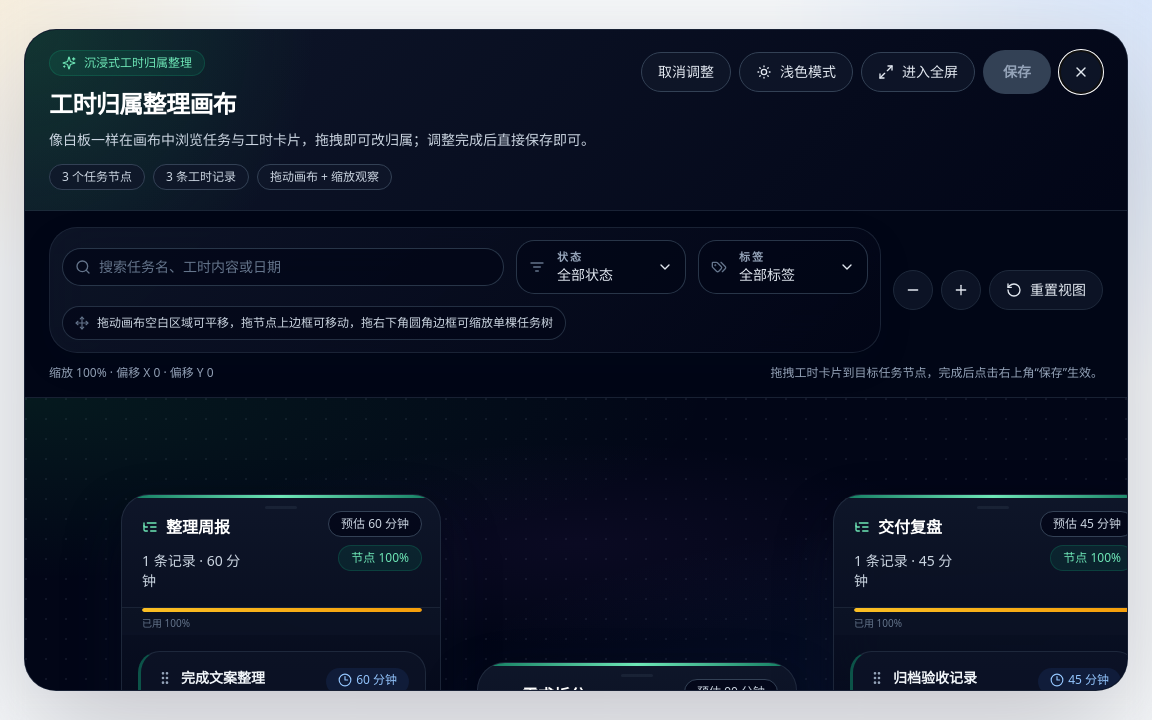
WorkLogTimeCanvasDialog › 支持按任务状态和标签多选筛选画布节点
Expected: the element named "工时画布节点 整理周报" is shown, x1=121 y1=494 x2=441 y2=690
Click the button with aria-label "按任务状态筛选".
click(601, 267)  # box x1=516 y1=240 x2=686 y2=294
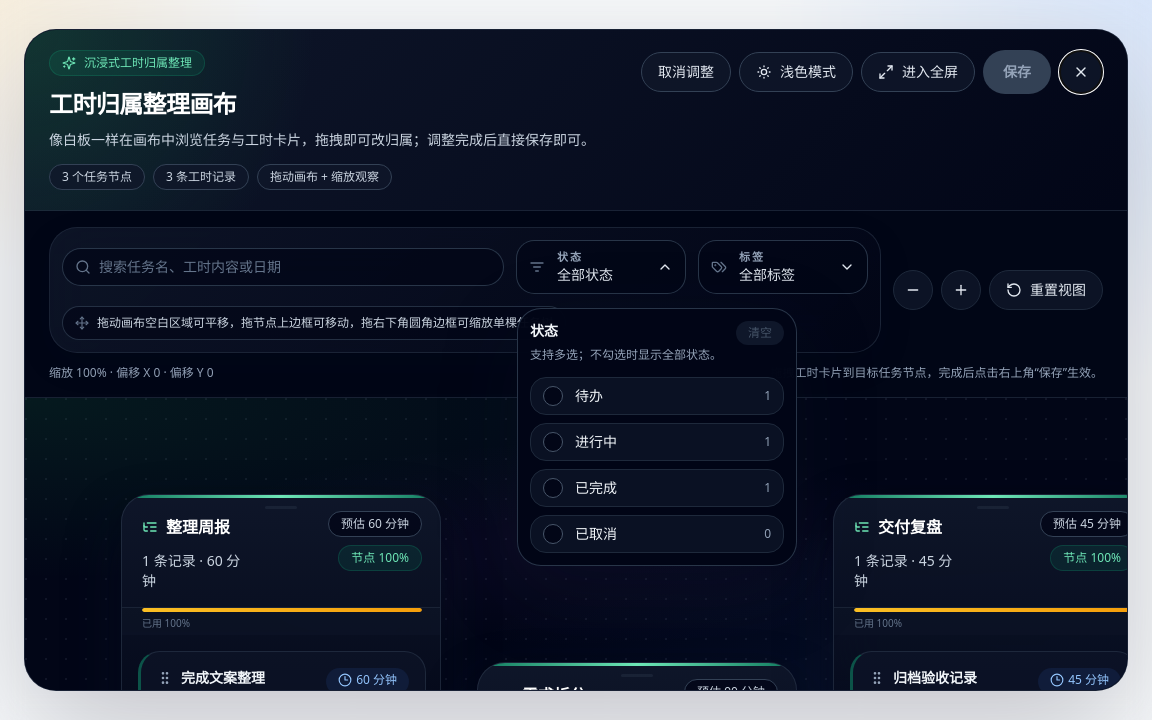
Click the checkbox labelled "进行中".
click(657, 442)  # box x1=530 y1=423 x2=784 y2=461
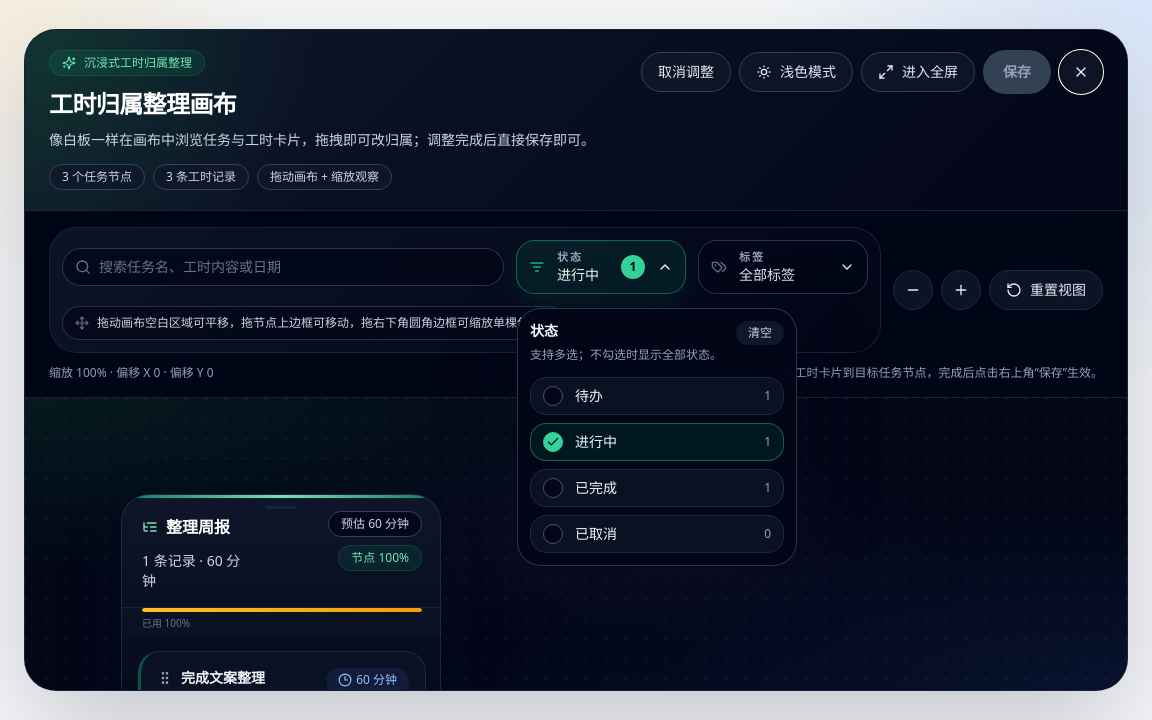
Click the checkbox labelled "待办".
click(657, 396)  # box x1=530 y1=377 x2=784 y2=415
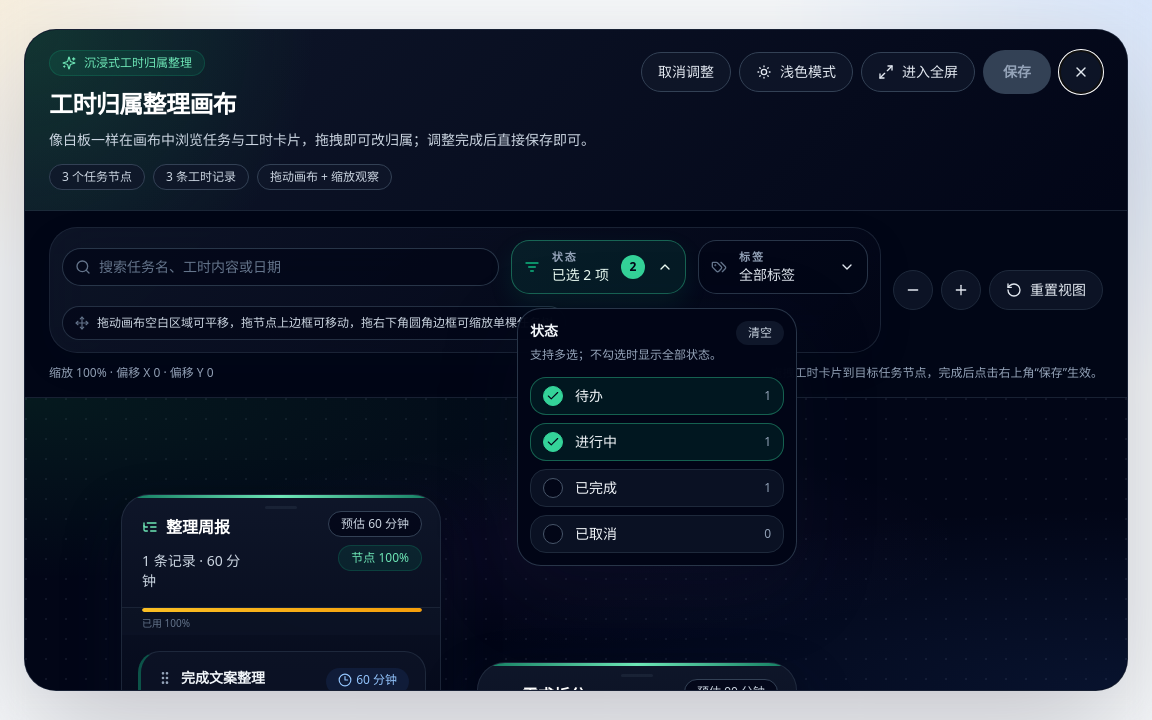
Expected: the element named "工时画布节点 整理周报" is shown, x1=121 y1=494 x2=441 y2=690
Expected: the button with aria-label "按任务状态筛选" shows "已选 2 项", x1=511 y1=240 x2=686 y2=294
Click the button with aria-label "按任务标签筛选".
click(783, 267)  # box x1=698 y1=240 x2=868 y2=294
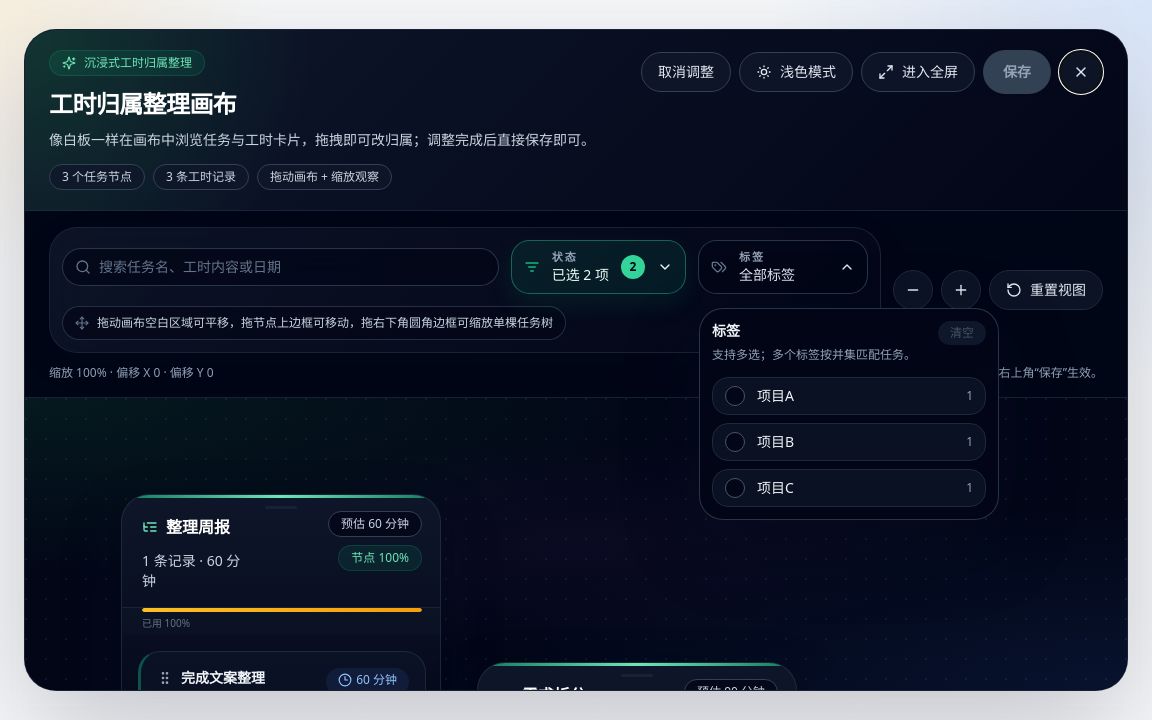
Click the checkbox labelled "项目A".
click(775, 395)  # box x1=712 y1=377 x2=986 y2=415
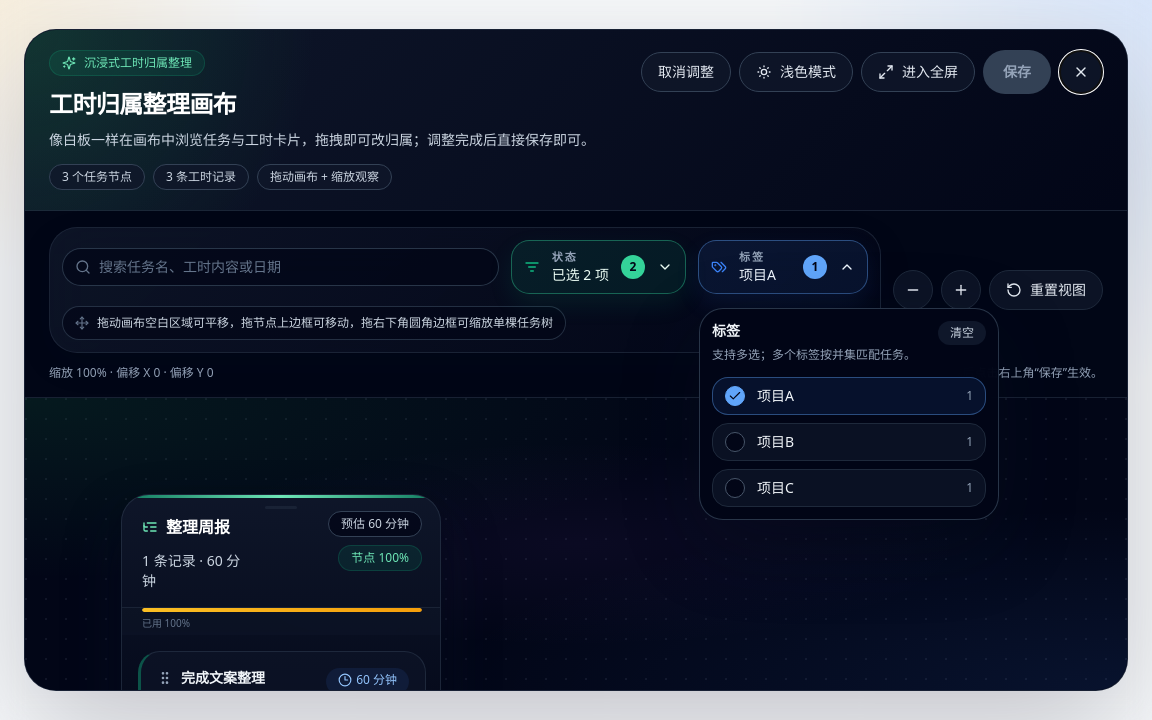
Click the checkbox labelled "项目C".
click(775, 487)  # box x1=712 y1=469 x2=986 y2=507
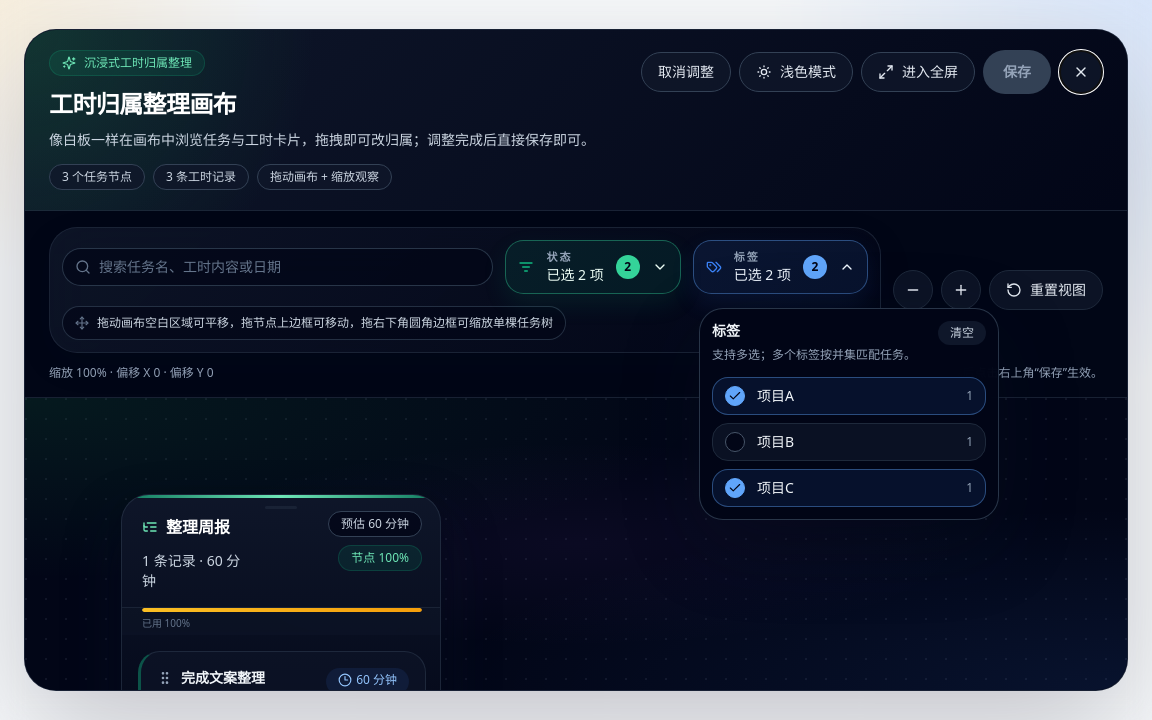
Expected: the element named "工时画布节点 整理周报" is shown, x1=121 y1=494 x2=441 y2=690
Expected: the button with aria-label "按任务标签筛选" shows "已选 2 项", x1=693 y1=240 x2=868 y2=294
